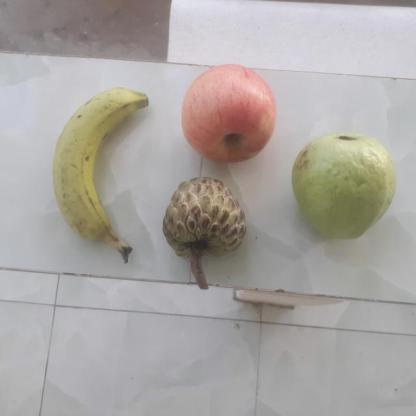annona: (164, 175, 250, 276)
apple: (178, 62, 282, 160)
banana: (53, 88, 150, 249)
guava: (295, 135, 399, 237)
